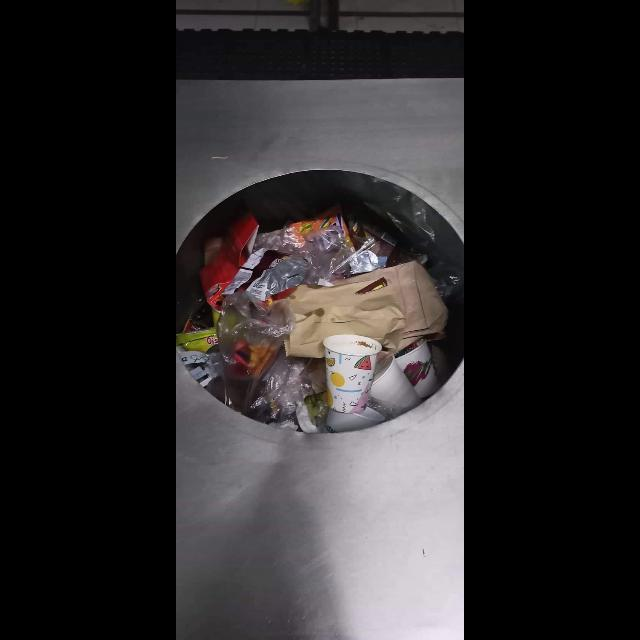food_wrapper: (200, 214, 259, 314), (221, 248, 310, 309), (176, 311, 219, 355)
paper: (283, 261, 448, 358)
plastic_bag: (205, 291, 315, 418)
